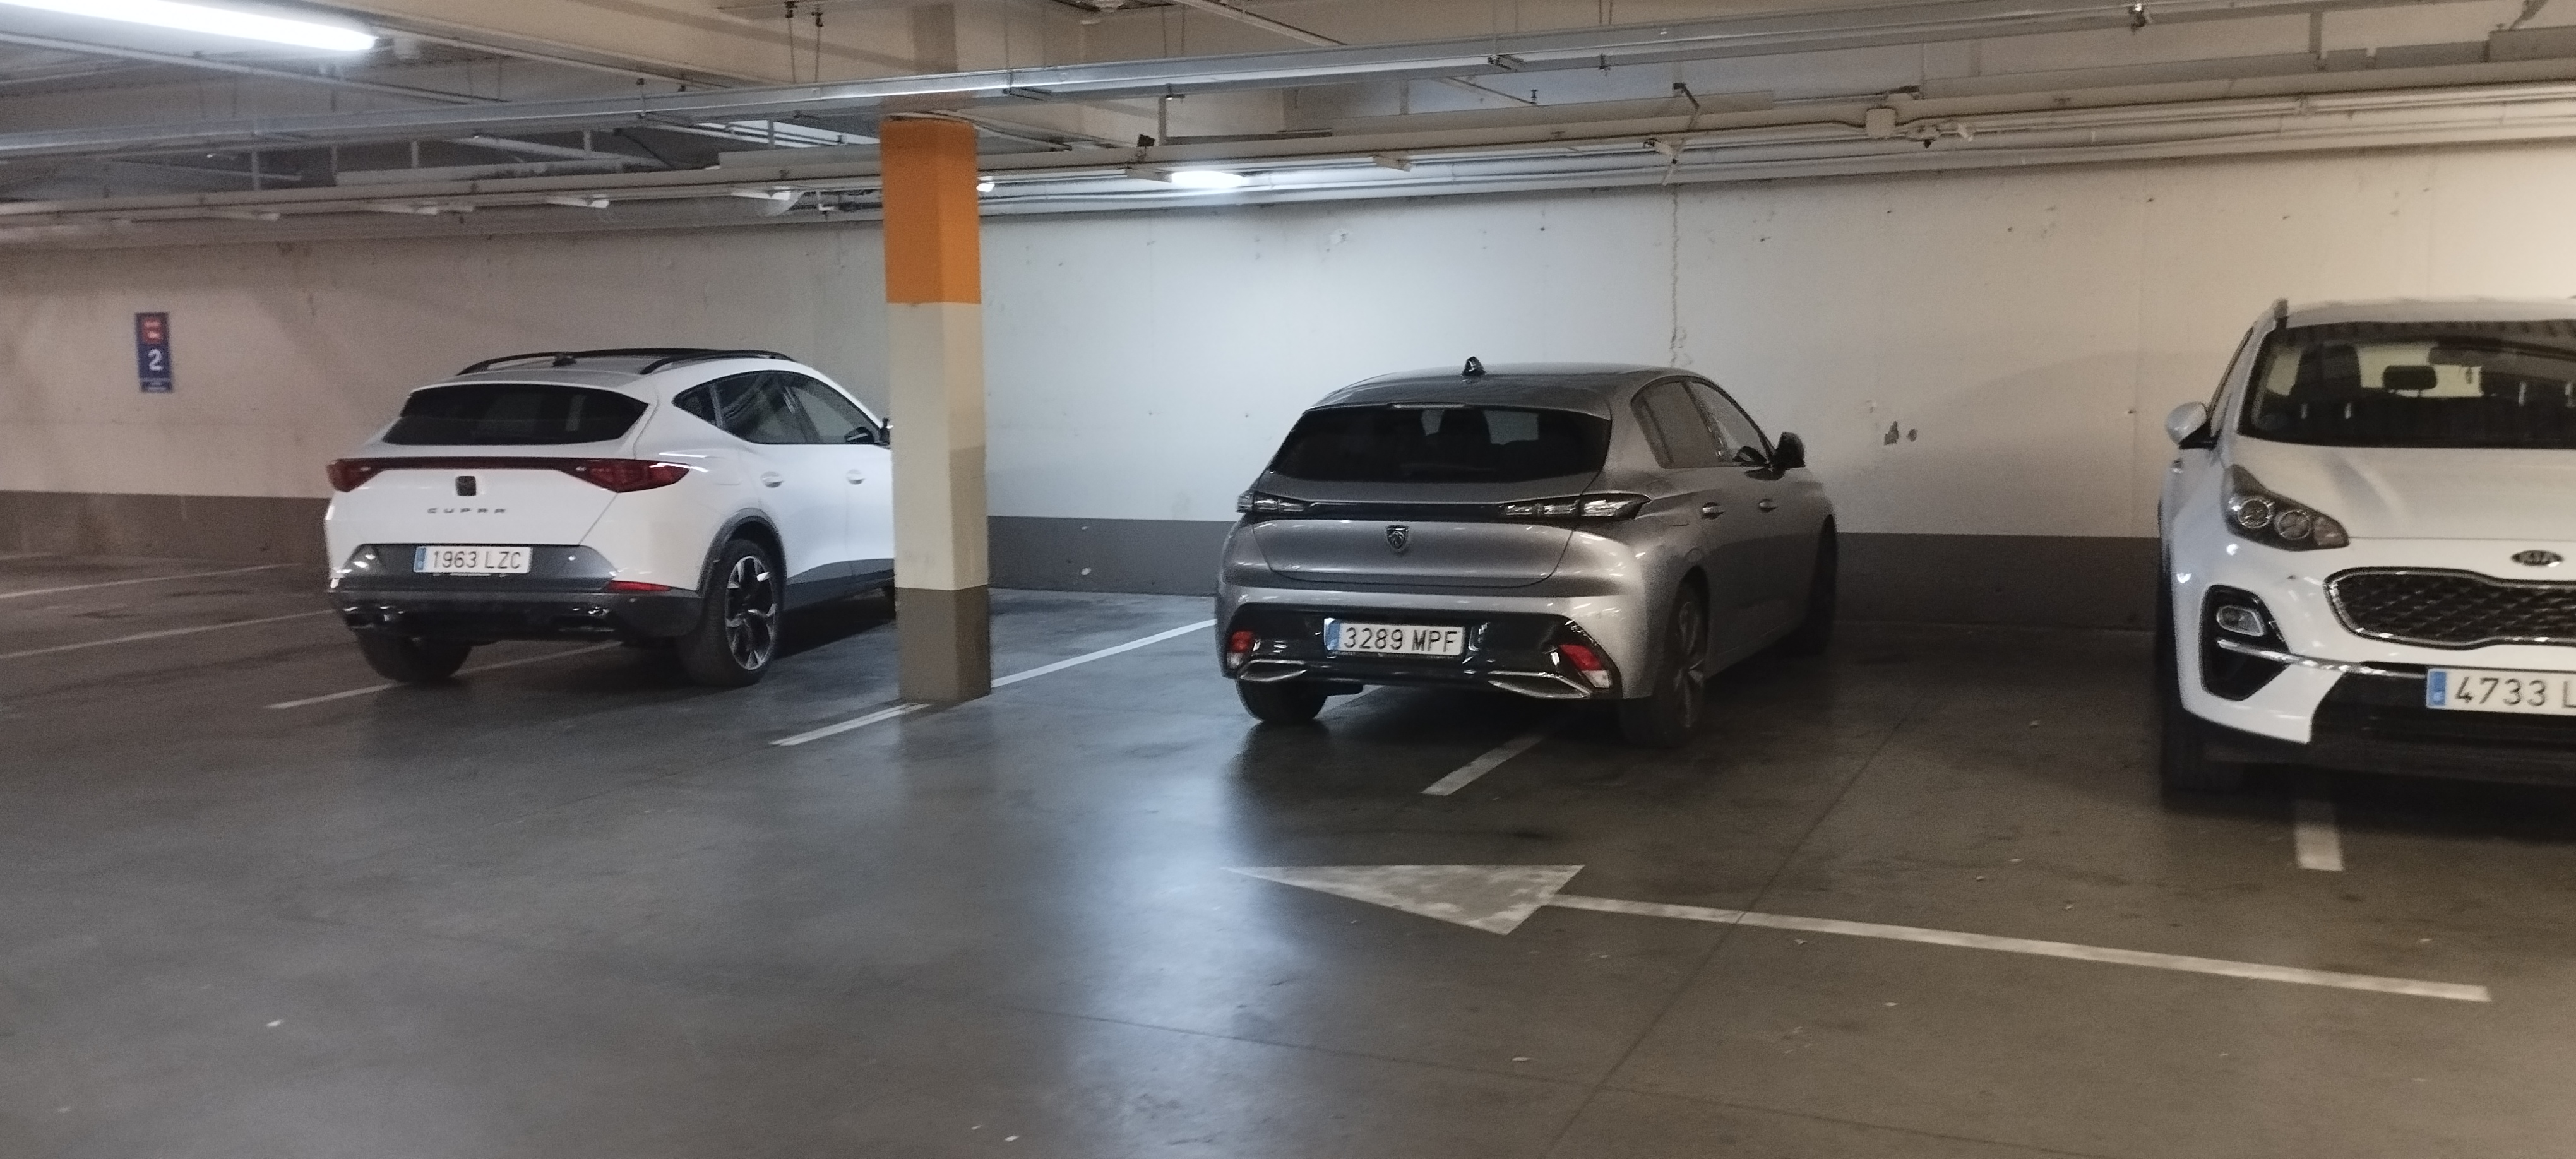Car: (1211, 353, 1853, 729), (318, 348, 955, 689), (2152, 295, 2575, 802)
Plate: (2426, 669, 2573, 714), (1326, 621, 1460, 651), (415, 545, 531, 573)
